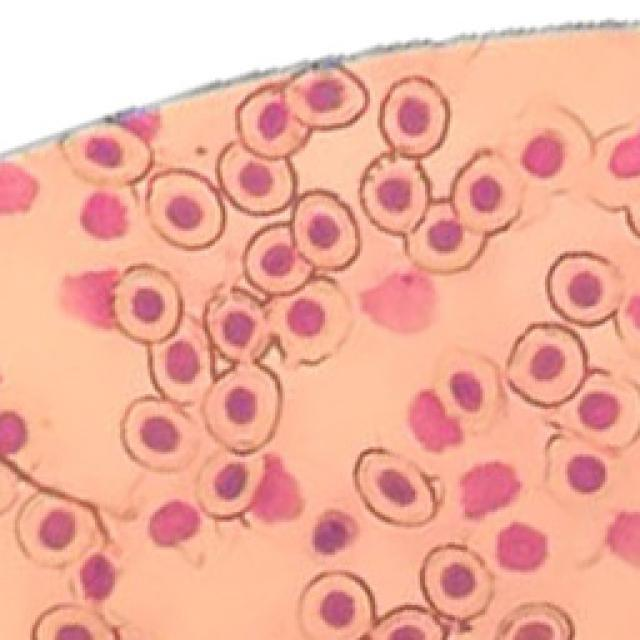RBC: (268, 279, 352, 368), (204, 363, 281, 456), (16, 491, 106, 567), (550, 372, 640, 448), (512, 106, 592, 191), (508, 326, 586, 408), (355, 450, 438, 527), (148, 171, 225, 250), (61, 122, 152, 187), (451, 152, 522, 235), (121, 398, 199, 472), (406, 203, 486, 274), (360, 155, 430, 235), (219, 144, 296, 216), (380, 78, 449, 158), (435, 351, 502, 433), (546, 253, 621, 326), (150, 316, 212, 403), (114, 267, 182, 344), (285, 66, 368, 129), (238, 87, 310, 159), (421, 547, 492, 620), (292, 193, 359, 270), (300, 573, 374, 640), (244, 225, 312, 295), (546, 435, 612, 507), (205, 290, 270, 363), (587, 120, 640, 208), (196, 452, 264, 520), (32, 605, 119, 639), (496, 604, 574, 640), (370, 607, 444, 640)
WBC: (251, 456, 302, 523), (61, 272, 119, 330), (461, 463, 520, 518), (409, 392, 462, 453), (499, 523, 546, 571), (150, 501, 200, 546), (81, 193, 128, 240), (0, 164, 38, 215), (312, 513, 356, 555), (608, 513, 640, 566), (80, 555, 115, 601), (0, 413, 26, 457)
